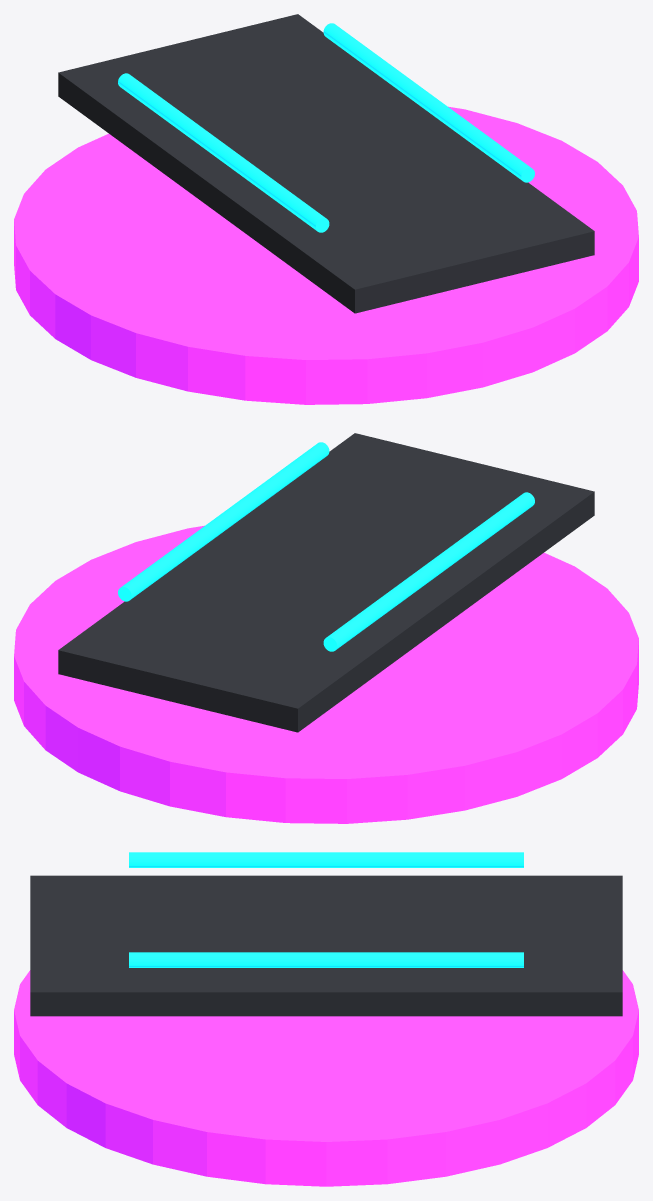
Rendered from modelling_runway.glb.
3 renders of one model, top to bottom at view 1: azimuth 30°, elevation 25°; view 2: azimuth 150°, elevation 25°; view 3: azimuth 270°, elevation 25°, orthographic.
Visible parts, largest first — view 1: 05_08_Popular_Modelling_Runway_ROOT_base, 05_08_Popular_Modelling_Runway_part_01, 05_08_Popular_Modelling_Runway_part_03, 05_08_Popular_Modelling_Runway_part_02; view 2: 05_08_Popular_Modelling_Runway_ROOT_base, 05_08_Popular_Modelling_Runway_part_01, 05_08_Popular_Modelling_Runway_part_03, 05_08_Popular_Modelling_Runway_part_02; view 3: 05_08_Popular_Modelling_Runway_ROOT_base, 05_08_Popular_Modelling_Runway_part_01, 05_08_Popular_Modelling_Runway_part_02, 05_08_Popular_Modelling_Runway_part_03.
Boxes of the visible parts, x1,y1,x2,y2 form: 05_08_Popular_Modelling_Runway_ROOT_base: [14, 106, 638, 404]; 05_08_Popular_Modelling_Runway_part_01: [58, 14, 594, 313]; 05_08_Popular_Modelling_Runway_part_03: [323, 23, 534, 182]; 05_08_Popular_Modelling_Runway_part_02: [118, 73, 329, 232]; 05_08_Popular_Modelling_Runway_ROOT_base: [14, 525, 638, 823]; 05_08_Popular_Modelling_Runway_part_01: [58, 433, 594, 732]; 05_08_Popular_Modelling_Runway_part_03: [118, 442, 329, 601]; 05_08_Popular_Modelling_Runway_part_02: [323, 492, 534, 651]; 05_08_Popular_Modelling_Runway_ROOT_base: [14, 970, 638, 1186]; 05_08_Popular_Modelling_Runway_part_01: [30, 875, 622, 1016]; 05_08_Popular_Modelling_Runway_part_02: [129, 852, 523, 867]; 05_08_Popular_Modelling_Runway_part_03: [129, 952, 523, 967].
Bounding box in the file's own units: 0.76 × 0.2036 × 0.76.
